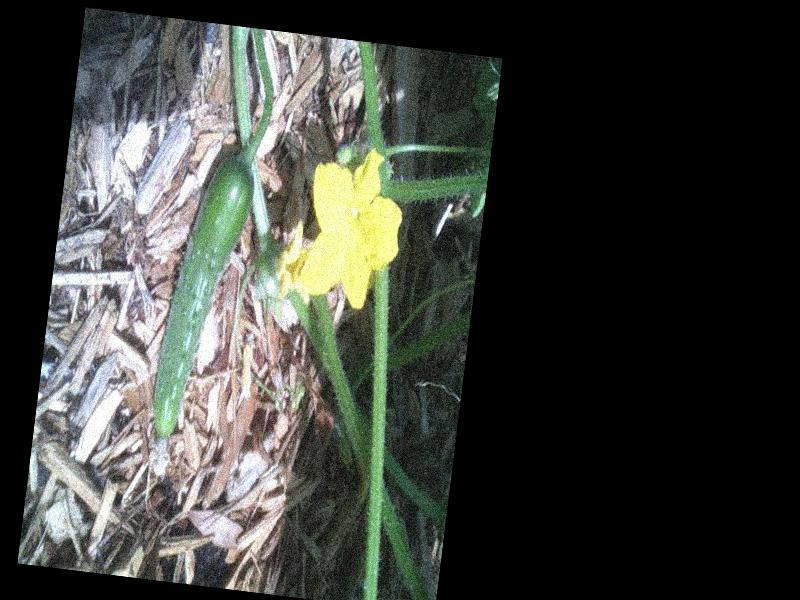Cucumber: (142, 145, 258, 476)
